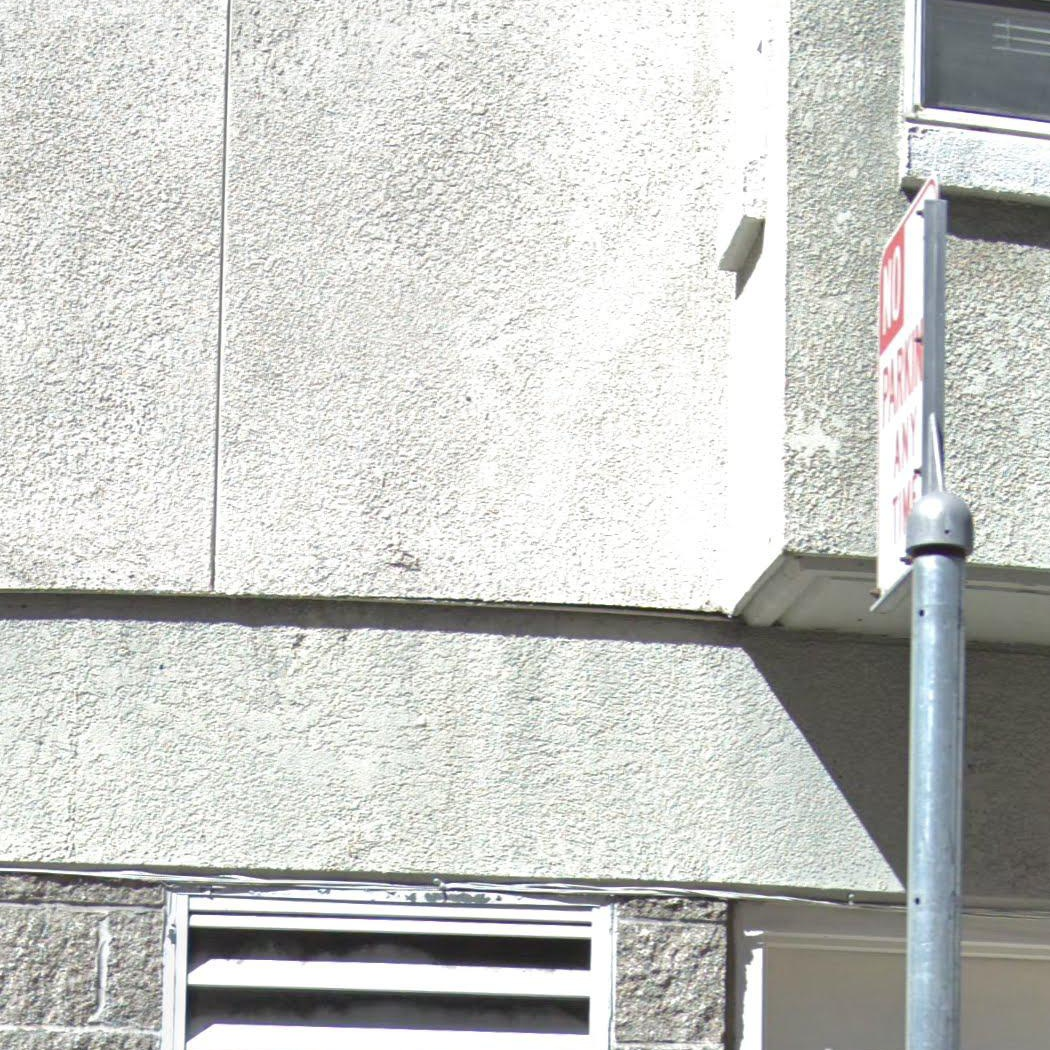No Parking Anytime: (864, 168, 945, 620)
